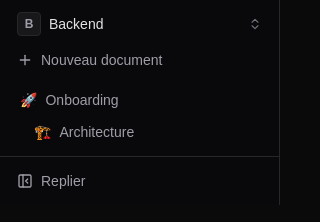
it: Sidebar › shouldCollapseAndHideTitles
The width and height of the screenshot is (320, 222).
Click the button with aria-label "Replier la barre latérale" at (63, 181), box [8, 165, 271, 197]
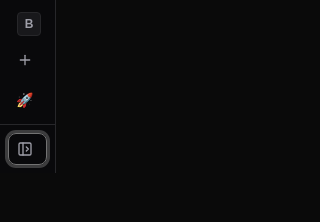
Check: the button named "Déplier la barre latérale" is shown, box [8, 133, 47, 165]
Check: the text "Onboarding" is gone
